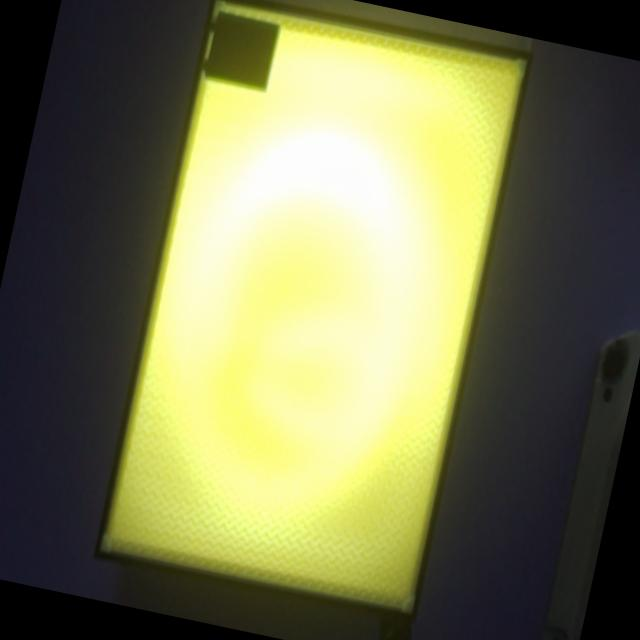bateria: (201, 11, 279, 91)
mesa: (93, 0, 534, 625)
